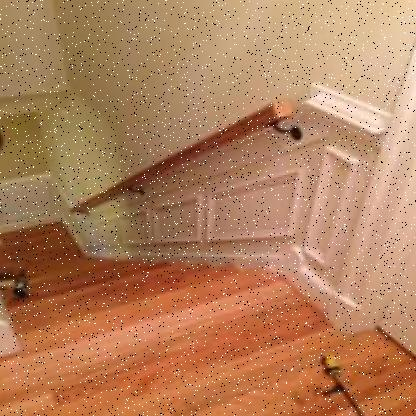stair_down: (0, 225, 301, 352)
